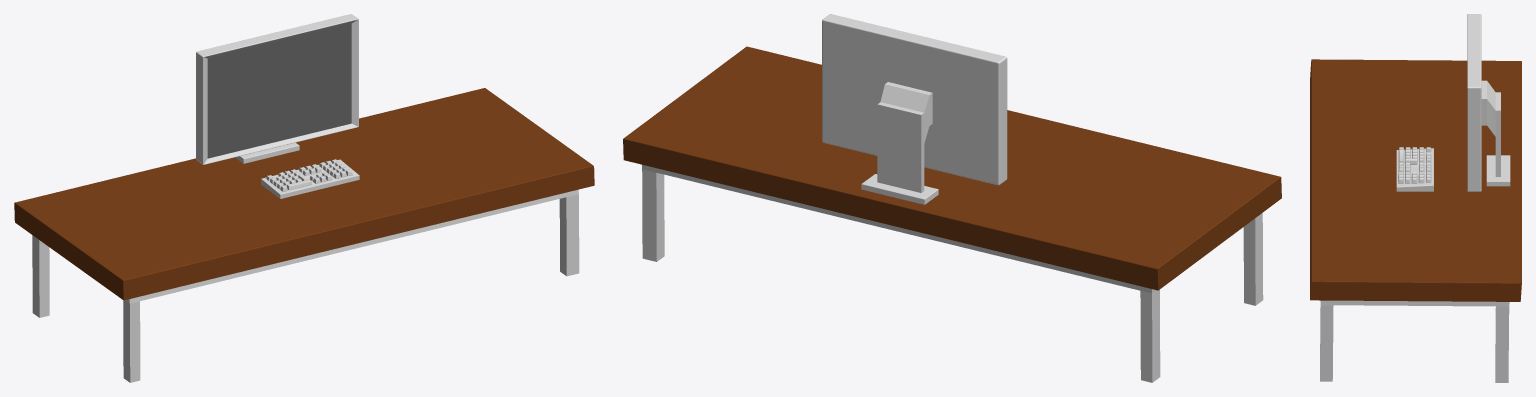
File: desk-modeling.glb
3 renders of one model, left to right at view 1: azimuth 30°, elevation 25°; view 2: azimuth 150°, elevation 25°; view 3: azimuth 270°, elevation 25°, orthographic. The views are drawn at different scales.
Visible parts, largest first — view 1: Cube, 큐브, 큐브.001; view 2: Cube, 큐브; view 3: Cube, 큐브, 큐브.001.
Part boxes in pixels (left/top/right/bottom): Cube: left=14, top=88, right=594, bottom=382; 큐브: left=196, top=14, right=358, bottom=164; 큐브.001: left=261, top=159, right=359, bottom=198; Cube: left=623, top=46, right=1281, bottom=382; 큐브: left=822, top=14, right=1007, bottom=204; Cube: left=1310, top=59, right=1521, bottom=382; 큐브: left=1467, top=14, right=1510, bottom=191; 큐브.001: left=1396, top=148, right=1433, bottom=191.
Bounding box in the file's own units: 10 × 4.78 × 4.03.
